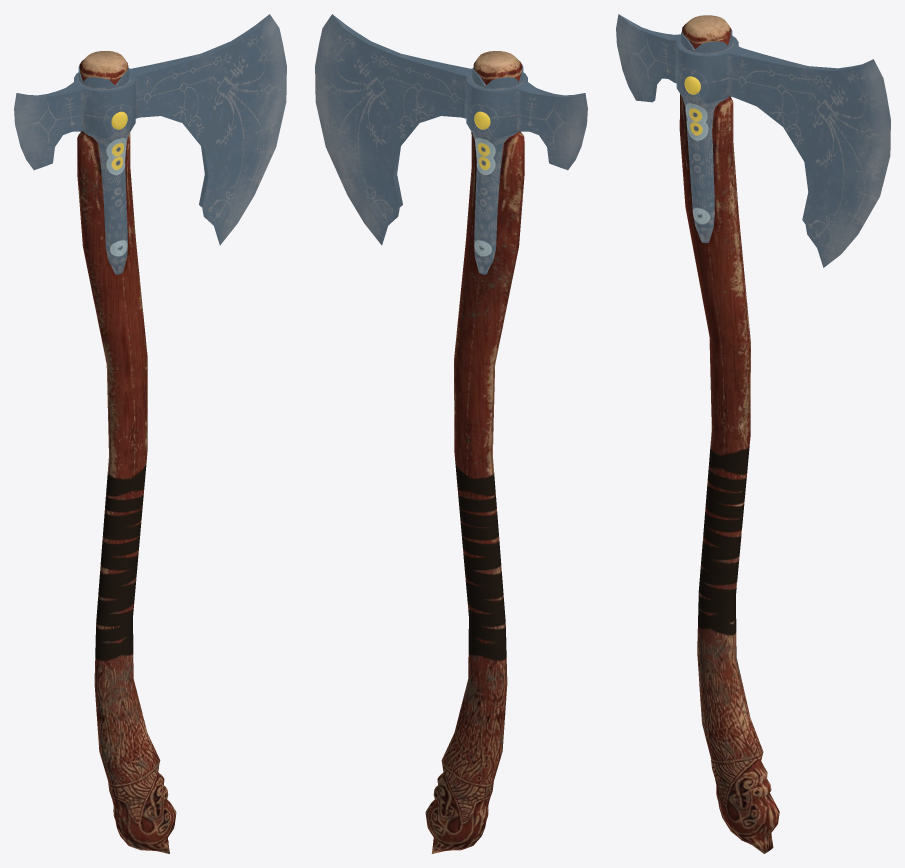
Rendered from axe_draco.glb.
3 views of the same model, side by side, from view 1: azimuth 30°, elevation 25°; view 2: azimuth 150°, elevation 25°; view 3: azimuth 330°, elevation 25° (orthographic).
Visible parts, largest first — view 1: defaultMaterial (×2); view 2: defaultMaterial (×2); view 3: defaultMaterial (×2).
Boxes of the visible parts, x1,y1,x2,y2 form: defaultMaterial (×2): (14,14,286,853); defaultMaterial (×2): (315,14,587,853); defaultMaterial (×2): (616,14,890,853).
Size of the model in its own units: 0.266 by 0.7559 by 0.0572.
Materials: 2 (2 with a texture image).
